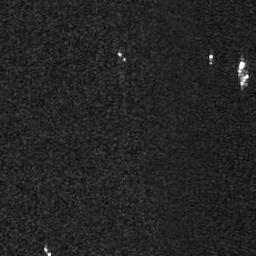ship: (238, 60, 246, 77), (241, 71, 249, 85)
